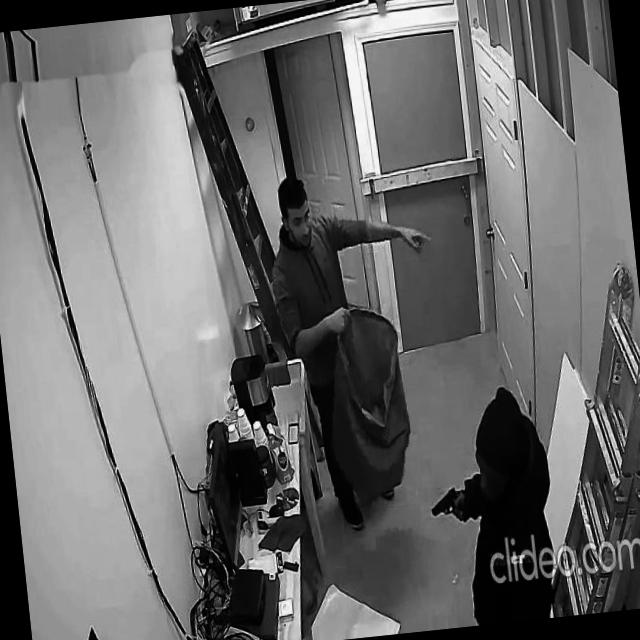gun: (428, 484, 464, 524)
person: (269, 172, 368, 536)
person with a gun: (414, 384, 564, 630)
